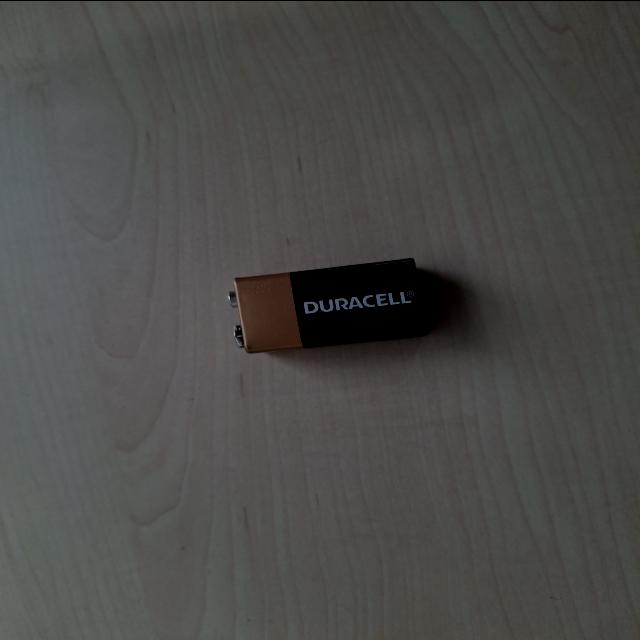9V: (384, 332, 509, 481)
